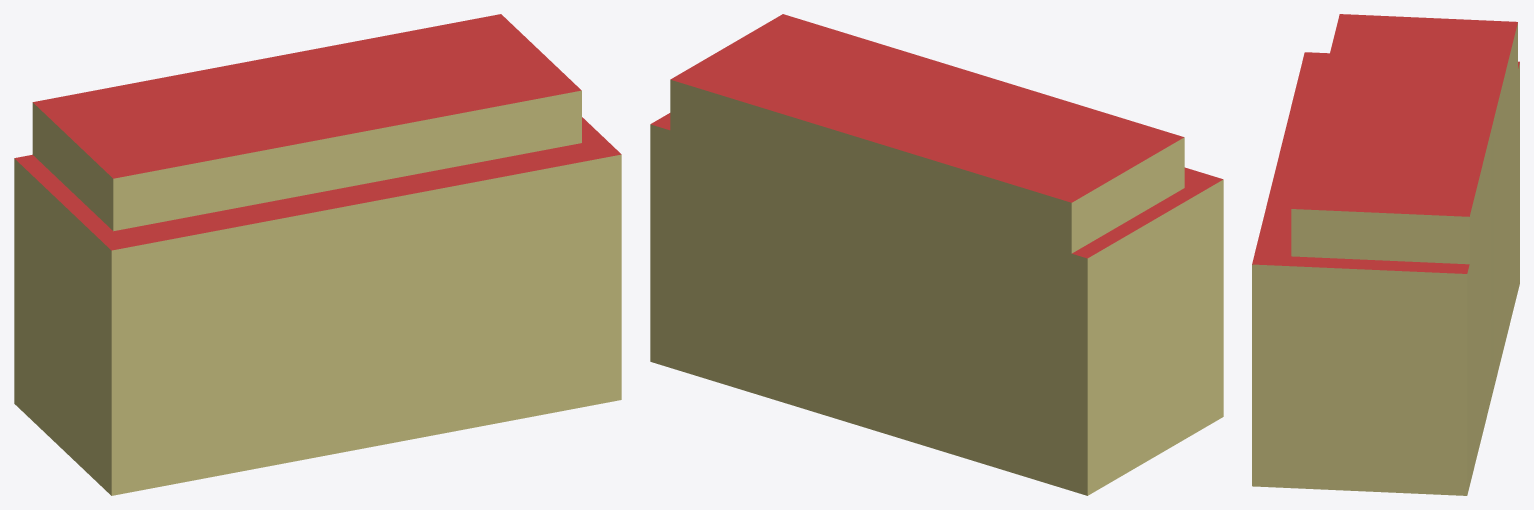
3 renders of one model, left to right at view 1: azimuth 30°, elevation 25°; view 2: azimuth 150°, elevation 25°; view 3: azimuth 270°, elevation 25°, orthographic. The views are drawn at different scales.
Visible parts, largest first — view 1: group_4, group_6, group_7, group_3; view 2: group_7, group_4, group_6, group_3; view 3: group_4, group_6, group_7, group_3.
Part boxes in pixels (x1,y1,x2,y2): group_4: (14,154,621,495); group_6: (33,14,581,178); group_7: (32,90,581,231); group_3: (14,117,621,250); group_7: (670,79,1184,490); group_4: (650,124,1223,495); group_6: (670,14,1183,202); group_3: (651,113,1222,258); group_4: (1252,62,1519,495); group_6: (1291,14,1517,216); group_7: (1291,23,1517,485); group_3: (1252,52,1519,273).
Size of the model in its own units: 28.51 by 14.55 by 16.14.
